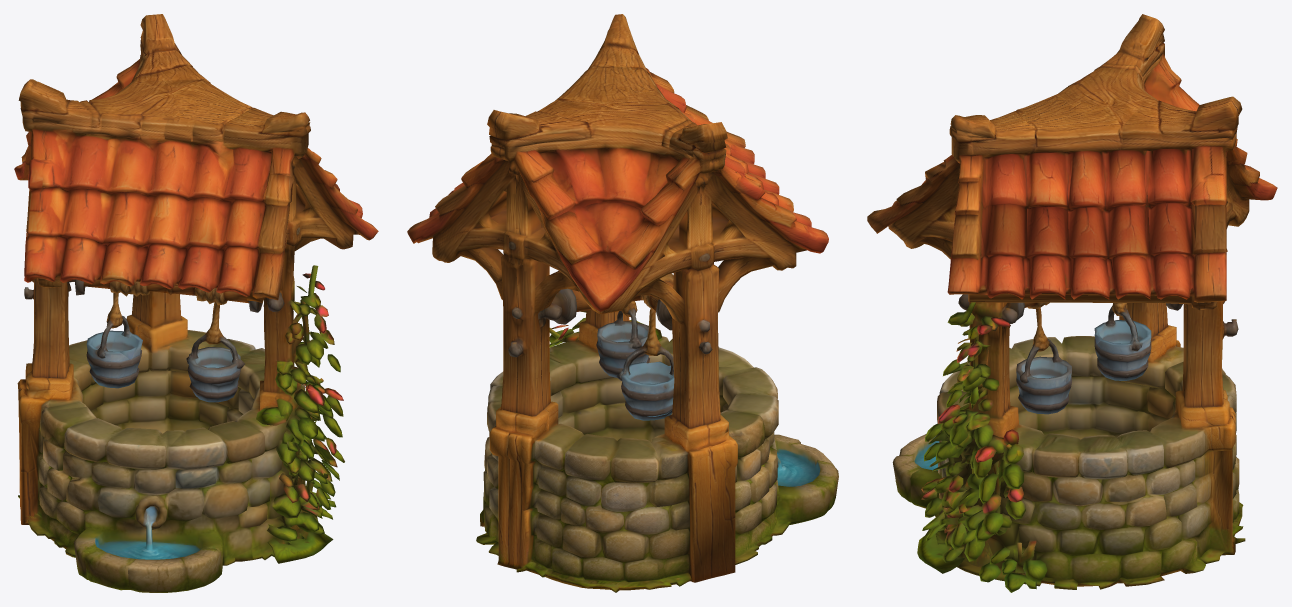
File: village_well.glb
The picture shows the model from 3 angles, left to right: view 1: azimuth 30°, elevation 25°; view 2: azimuth 150°, elevation 25°; view 3: azimuth 270°, elevation 25°; orthographic projection. The views are drawn at different scales.
Visible parts, largest first — view 1: tripo_node_db95b6fc-fd40-4785-8340-655e35f75d97; view 2: tripo_node_db95b6fc-fd40-4785-8340-655e35f75d97; view 3: tripo_node_db95b6fc-fd40-4785-8340-655e35f75d97.
Part boxes in pixels (x1,y1,x2,y2): tripo_node_db95b6fc-fd40-4785-8340-655e35f75d97: (14,14,378,592); tripo_node_db95b6fc-fd40-4785-8340-655e35f75d97: (407,14,838,592); tripo_node_db95b6fc-fd40-4785-8340-655e35f75d97: (867,14,1277,592).
Size of the model in its own units: 0.7526 by 0.9786 by 0.8024.
1 material, 1 textured.
